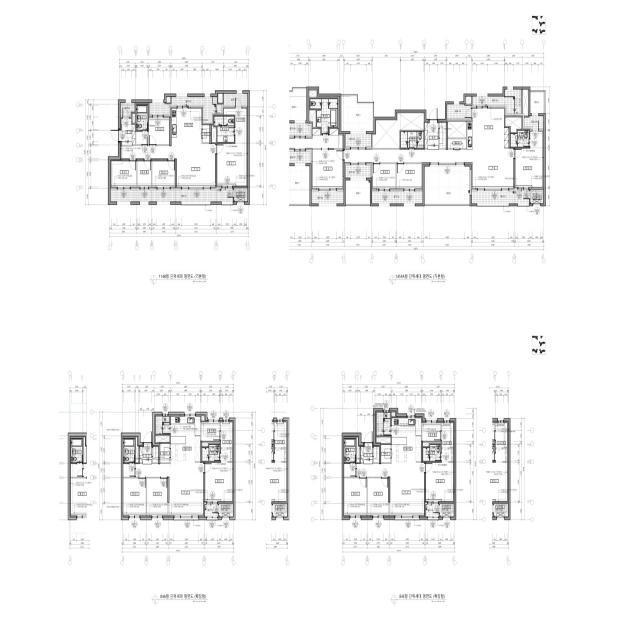space_balconi: (149, 97, 222, 125), (425, 166, 470, 204), (111, 188, 233, 202), (472, 89, 522, 114), (341, 96, 374, 131), (472, 190, 529, 204), (372, 192, 423, 204), (346, 180, 370, 204), (312, 191, 344, 204), (345, 134, 371, 147), (447, 104, 471, 118), (224, 93, 247, 107), (345, 166, 371, 178), (377, 413, 390, 436), (530, 92, 544, 113), (288, 123, 310, 135), (288, 151, 310, 163), (156, 416, 170, 434), (524, 116, 543, 128), (121, 103, 135, 117), (426, 504, 439, 517), (205, 504, 218, 517)
space_bedroom: (515, 131, 543, 187), (205, 449, 232, 501), (217, 144, 247, 186), (312, 150, 343, 188), (123, 478, 146, 516), (344, 478, 367, 515), (147, 478, 168, 516), (368, 478, 388, 515), (111, 161, 136, 187), (397, 164, 422, 189), (152, 161, 175, 187), (373, 164, 396, 189), (149, 118, 169, 144)
space_dressroom: (223, 108, 247, 144), (221, 422, 232, 448), (442, 423, 453, 448)
space_front: (425, 123, 439, 150), (121, 119, 135, 146), (361, 444, 379, 463), (140, 447, 152, 464)
space_kitchen: (467, 109, 509, 149), (171, 416, 200, 462), (392, 418, 421, 463), (171, 108, 202, 145)
space_living_room: (344, 148, 514, 188), (121, 144, 215, 187), (136, 463, 203, 516), (356, 463, 424, 515)
space_other: (373, 113, 424, 148), (426, 449, 453, 501), (289, 129, 343, 148), (137, 161, 151, 187), (201, 422, 220, 441), (422, 423, 441, 441), (448, 121, 466, 138), (505, 117, 522, 132), (160, 444, 170, 463), (381, 445, 391, 463), (344, 463, 356, 477), (448, 139, 466, 148), (136, 132, 148, 145), (123, 464, 135, 477), (440, 123, 446, 148), (523, 89, 528, 116), (309, 110, 316, 127), (203, 125, 209, 143), (156, 436, 170, 443), (202, 442, 220, 447), (423, 442, 441, 447), (377, 437, 391, 443), (153, 447, 158, 463), (136, 437, 139, 463), (357, 437, 360, 462), (212, 125, 216, 143), (309, 91, 316, 98), (218, 94, 223, 103), (466, 96, 471, 104), (132, 114, 135, 123), (166, 97, 170, 103), (391, 412, 395, 416), (201, 416, 204, 421)
space_outdoor_room: (440, 504, 454, 517), (530, 190, 543, 204), (234, 188, 247, 202), (219, 504, 233, 517)
space_toilet: (310, 99, 337, 134), (214, 117, 234, 142), (401, 132, 424, 148), (136, 105, 148, 130), (511, 131, 529, 147), (202, 445, 220, 461), (423, 445, 441, 461), (344, 439, 356, 462), (123, 439, 135, 462)
